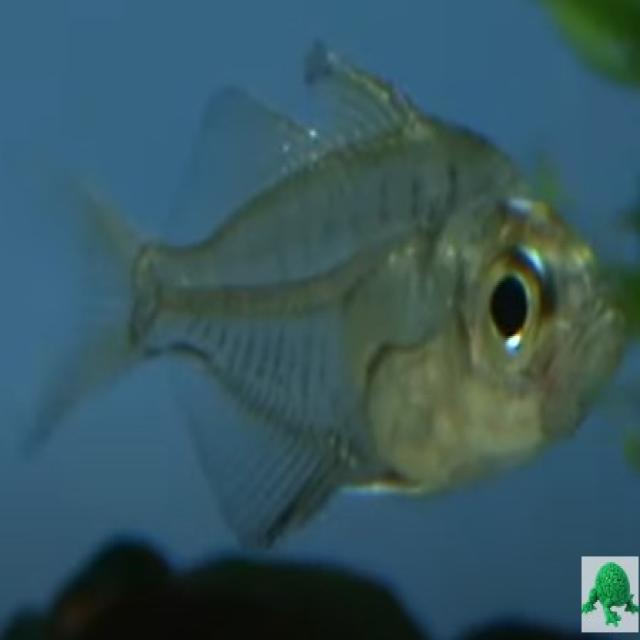Glass-Perchlet: (10, 35, 632, 598)
